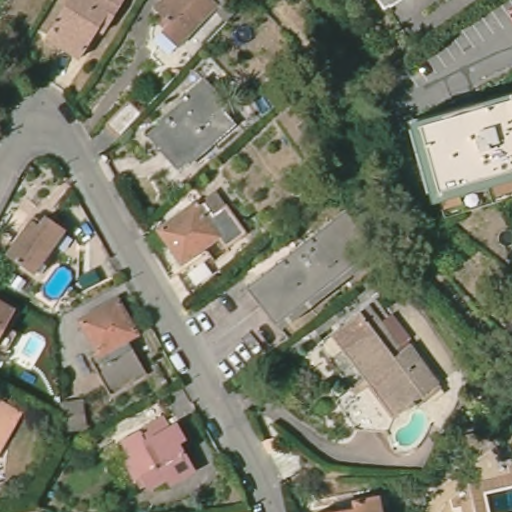pool: (390, 403, 435, 449), (38, 259, 78, 302), (483, 483, 512, 512), (25, 331, 44, 361), (248, 94, 273, 116)
